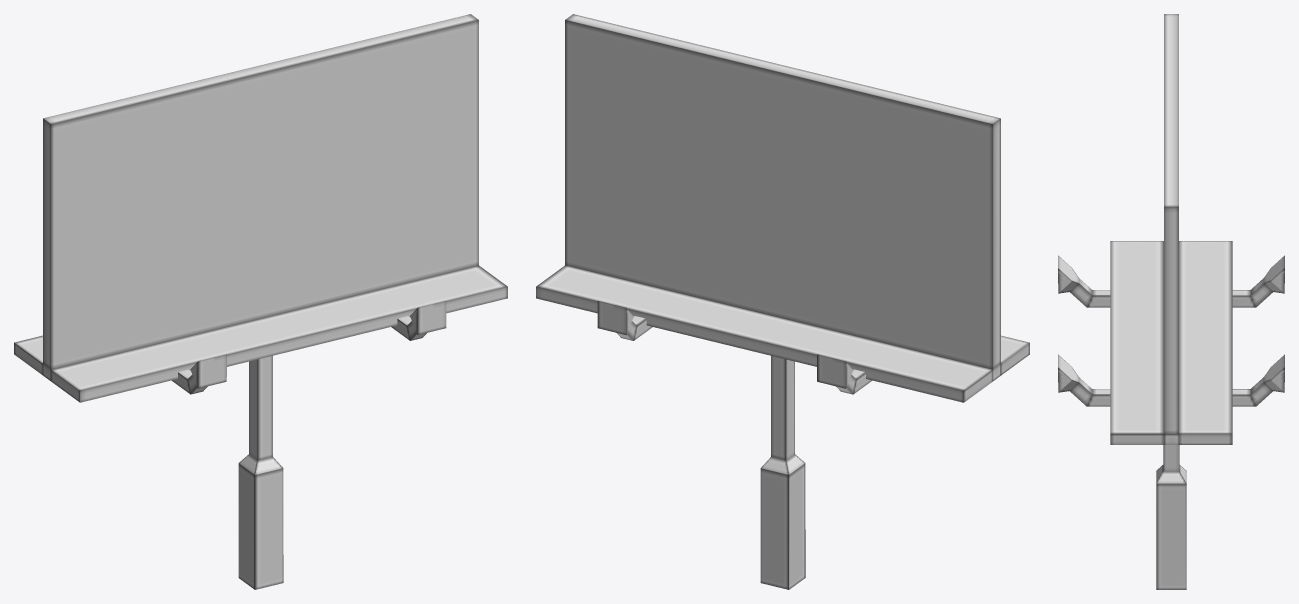
Rendered from Billboard-01.fbx.
3 renders of one model, left to right at view 1: azimuth 30°, elevation 25°; view 2: azimuth 150°, elevation 25°; view 3: azimuth 270°, elevation 25°, orthographic. The views are drawn at different scales.
Parts seen in each view (by area): view 1: Billboard_01; view 2: Billboard_01; view 3: Billboard_01.
Part boxes in pixels (<box>): Billboard_01: <box>14,14,507,589</box>; Billboard_01: <box>536,14,1029,589</box>; Billboard_01: <box>1058,14,1284,589</box>.
Bounding box in the file's own units: 2 × 2.28 × 0.9934.
